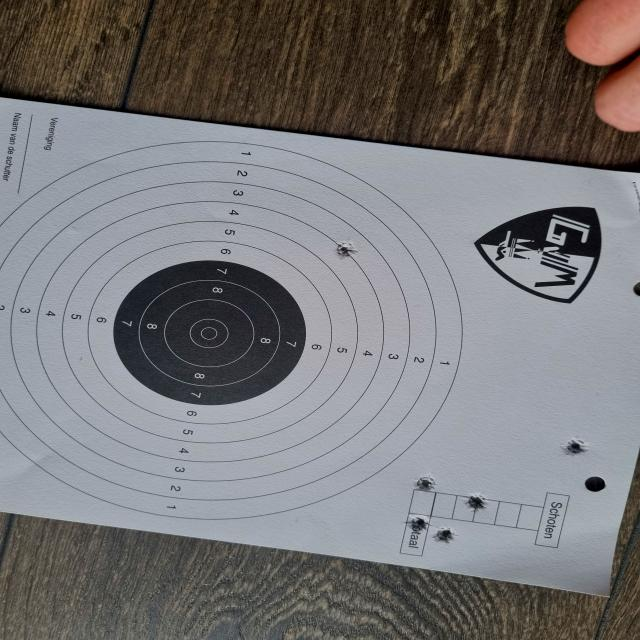0: (560, 439, 590, 456), (464, 492, 489, 512), (404, 515, 432, 531), (432, 527, 458, 544), (416, 477, 436, 491)
5: (336, 243, 356, 257)
Target: (0, 141, 464, 522)
black_contour: (113, 261, 306, 405)
